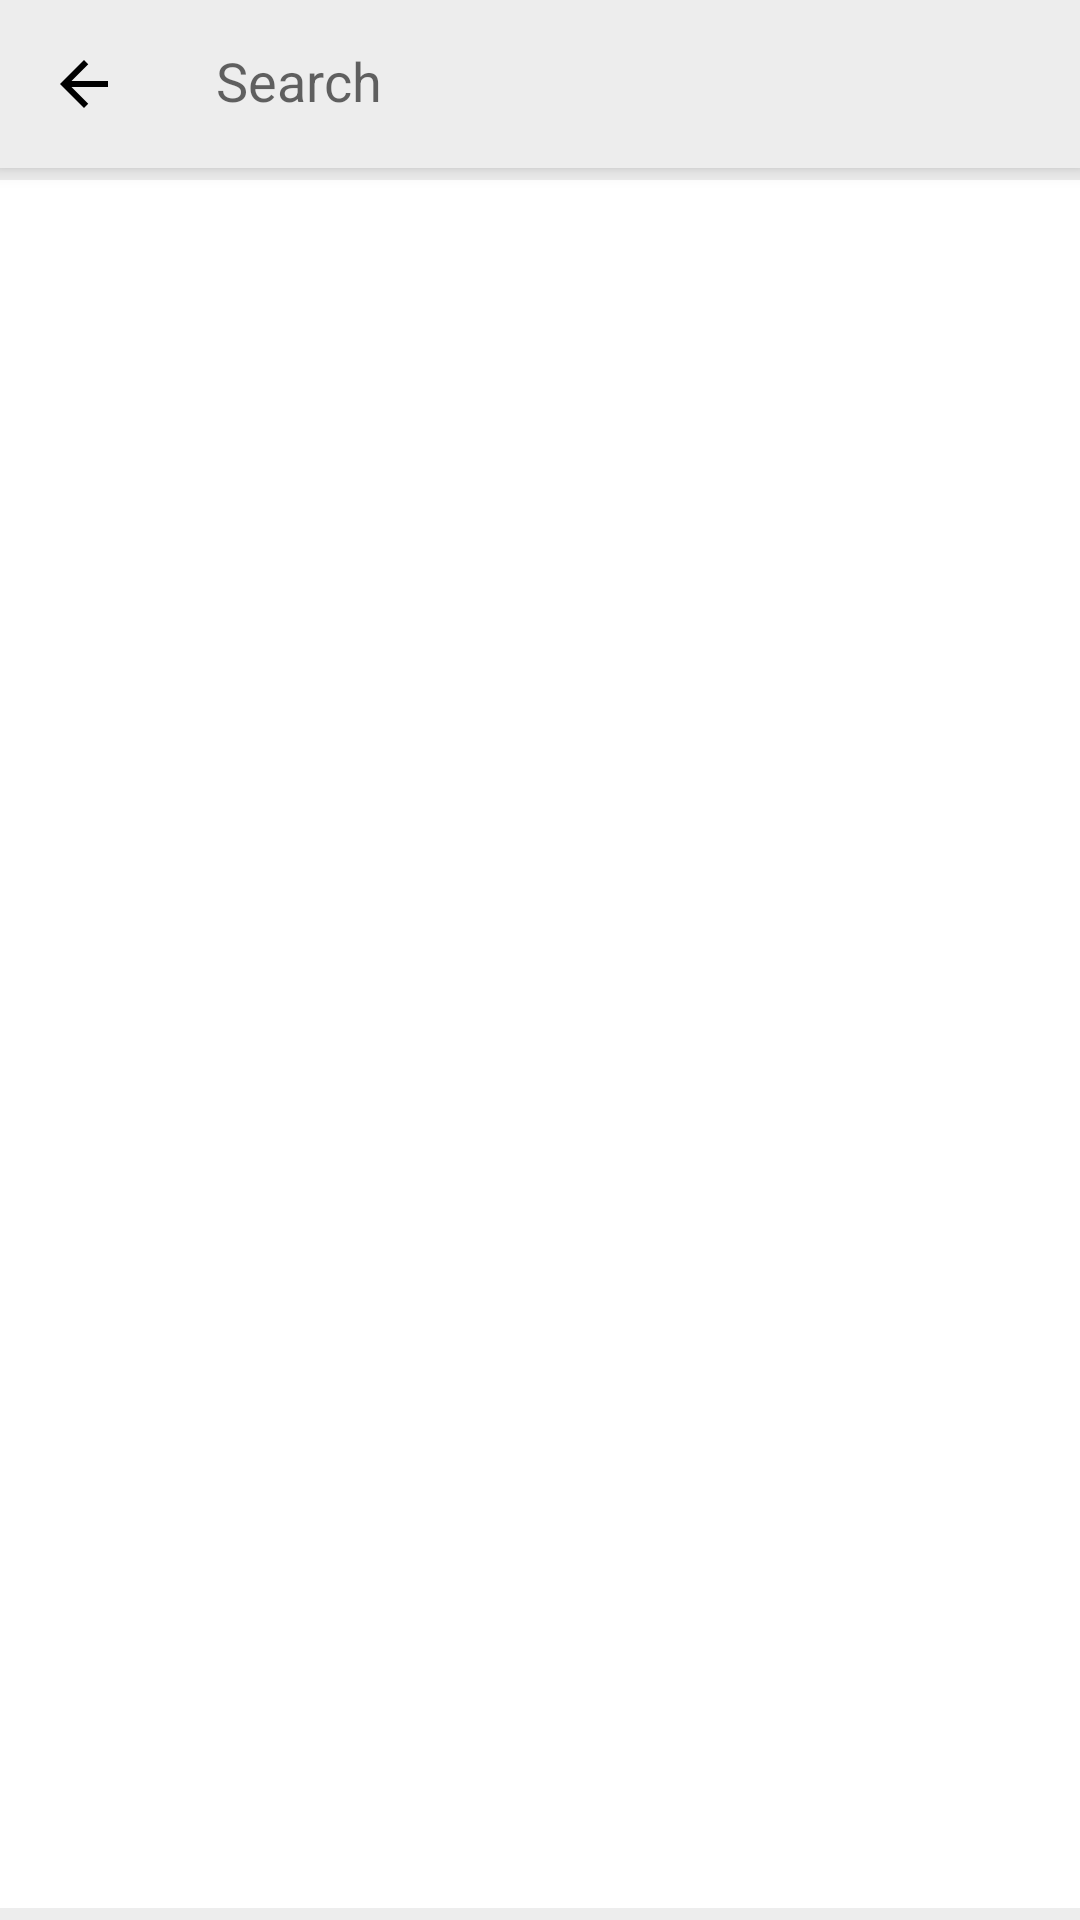

Screen size 1080px×1920px. Icon name, then its center in pixels as (x,y):
Back Button: (84,84)
